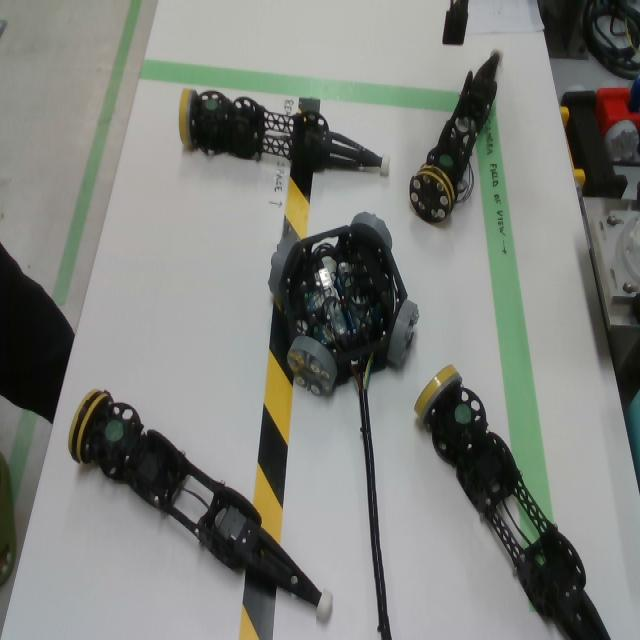body: (283, 227, 407, 384)
body_connector: (287, 336, 338, 396), (387, 300, 420, 368), (268, 236, 301, 296), (350, 212, 393, 249)
leg: (68, 391, 331, 623), (413, 364, 611, 640), (178, 88, 390, 179), (408, 45, 504, 224)
leg_connector: (68, 389, 114, 465), (414, 364, 463, 425), (409, 164, 456, 224), (178, 88, 197, 153)
leg_marker: (105, 420, 124, 443), (455, 403, 472, 425), (439, 153, 454, 167), (205, 99, 218, 111)
